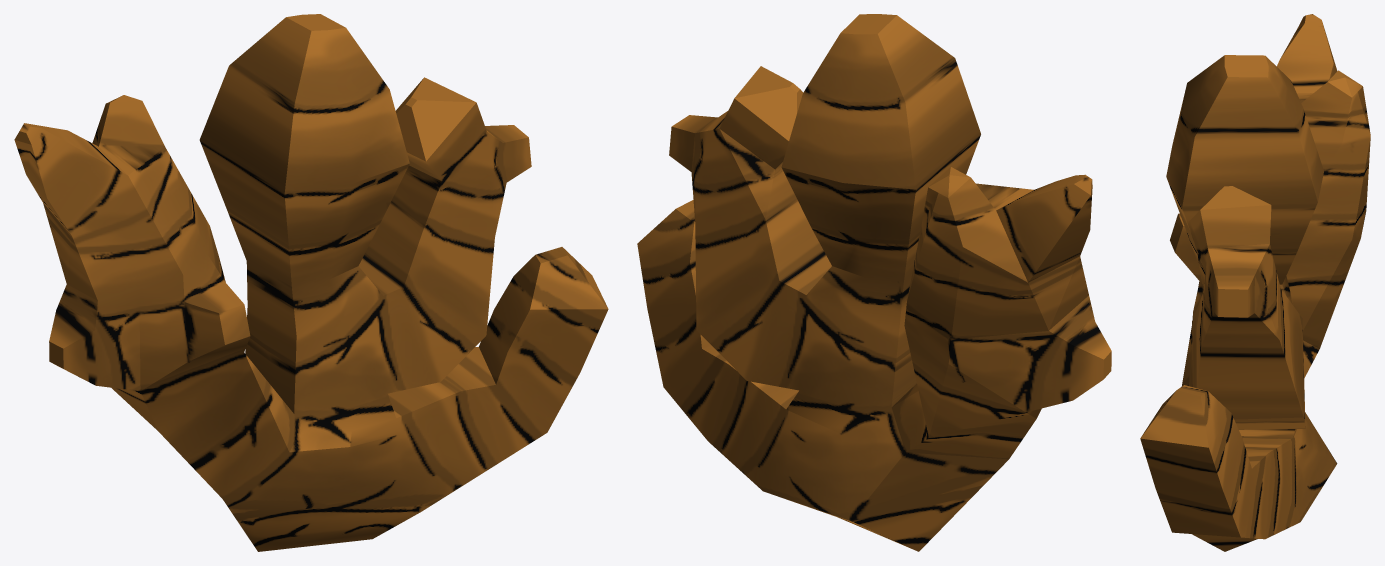
The model's file is GingerRoot.fbx.
The picture shows the model from 3 angles, left to right: view 1: azimuth 30°, elevation 25°; view 2: azimuth 150°, elevation 25°; view 3: azimuth 270°, elevation 25°; orthographic projection. The views are drawn at different scales.
Parts seen in each view (by area): view 1: Ginger; view 2: Ginger; view 3: Ginger.
Boxes of the visible parts, <box> form: Ginger: <box>14,14,608,551</box>; Ginger: <box>637,14,1111,551</box>; Ginger: <box>1140,14,1370,551</box>.
Bounding box in the file's own units: 64.3 × 27.55 × 61.98.
Materials: 1 (1 with a texture image).
